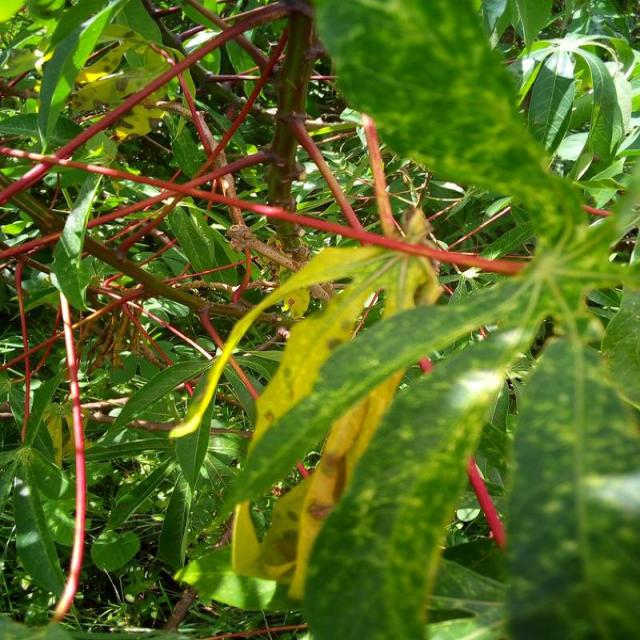cassava leaf: (1, 0, 636, 638), (301, 328, 518, 638), (502, 334, 638, 638)
